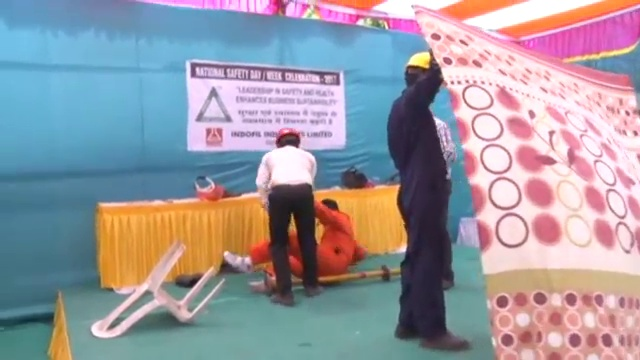helmet: (404, 48, 431, 69), (273, 127, 301, 142)
helmet_off: (320, 198, 342, 218)
helmet_on: (403, 49, 431, 91), (272, 127, 303, 149)
person: (387, 48, 475, 352), (225, 198, 365, 294), (259, 128, 326, 309)
